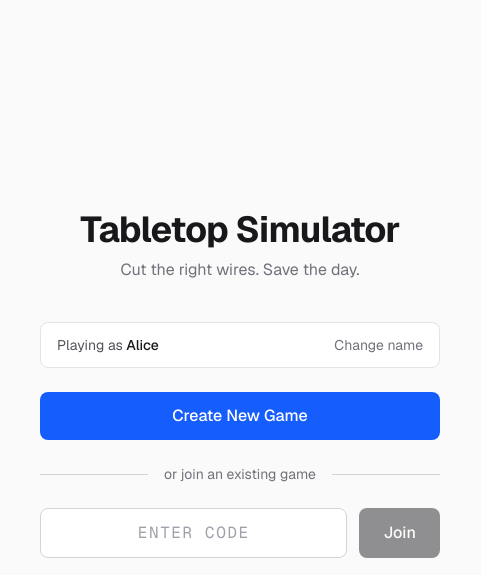
Test: Home (app/page.tsx) › authenticated lobby › create game › reverts to idle with an error after a 10s server timeout
Click the button "Create New Game": click(240, 416) [40,392,440,440]
Wait 10000 ms
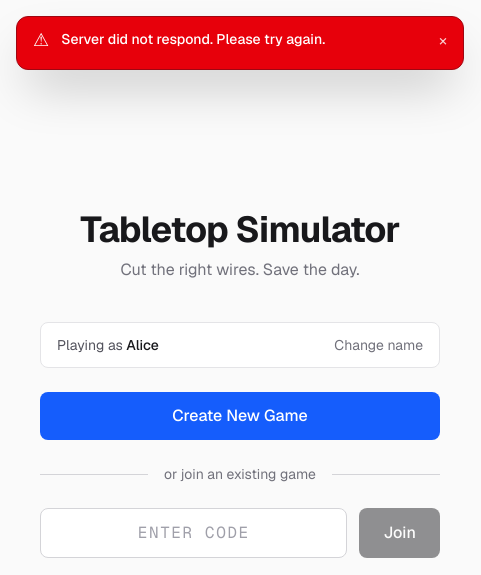
Expected: the text "Server did not respond. Please try again." is shown, [61,30,325,48]
